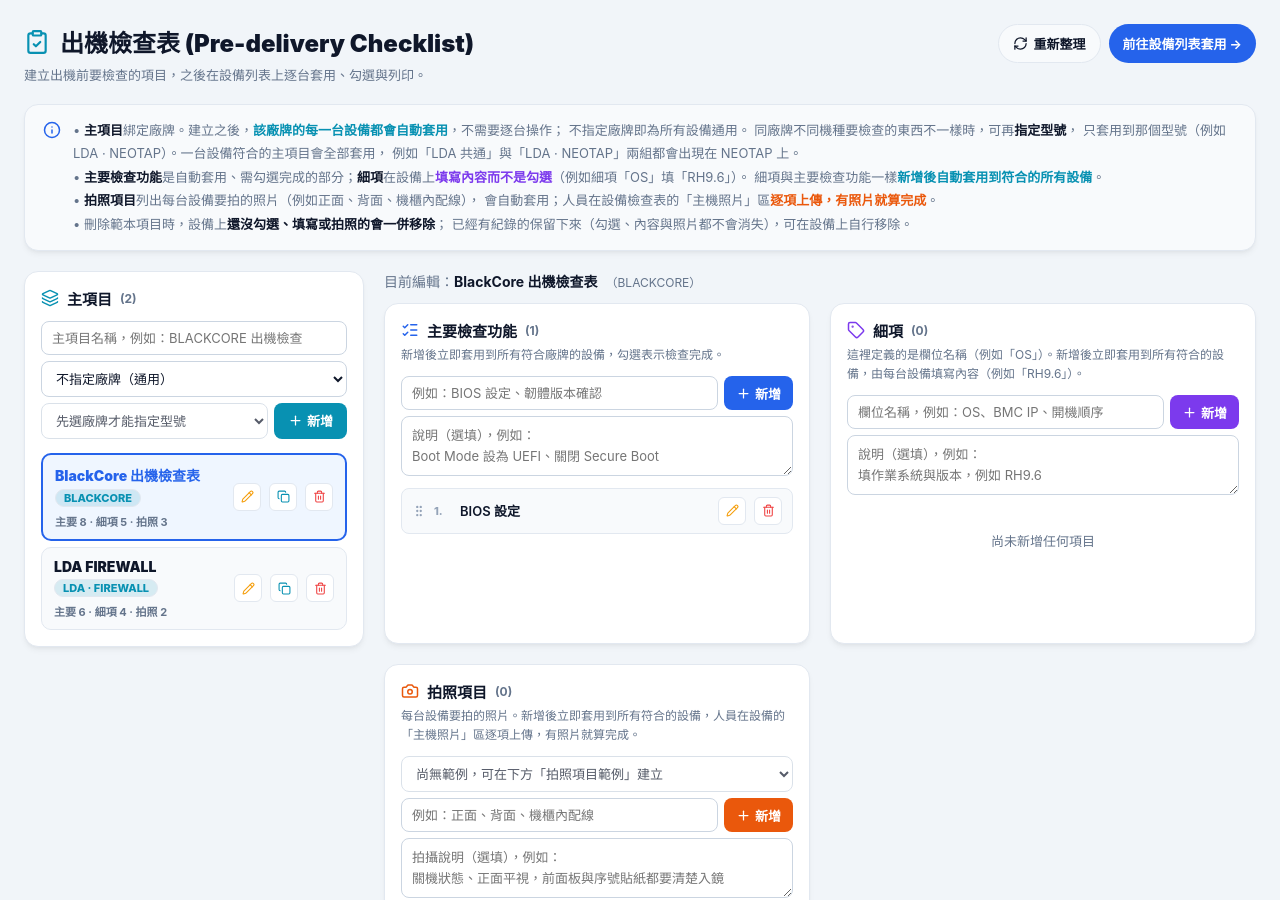
Test: 範本頁上複製 › 換成別的型號就不再提醒；複製後套用到設備並選到新的主項目
Expected: the text "BIOS 設定" is shown, [460,503,520,519]
Step 1. Click the button named "複製主項目 LDA FIREWALL" → (284, 588), box [270,574,298,602]
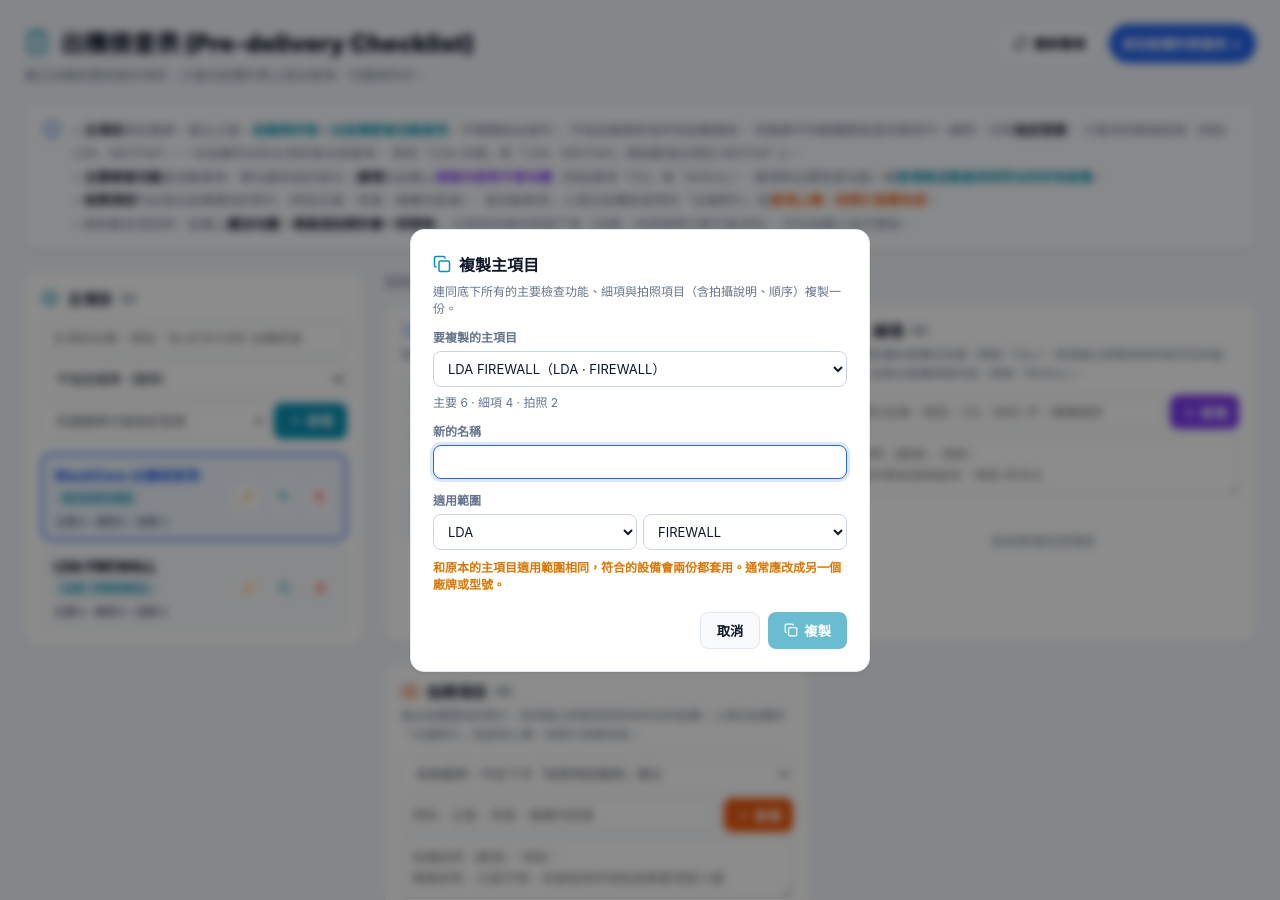
Step 2. Type "LDA NEOTAP" into the field labelled "新的名稱" → (640, 462), box [433,444,847,478]
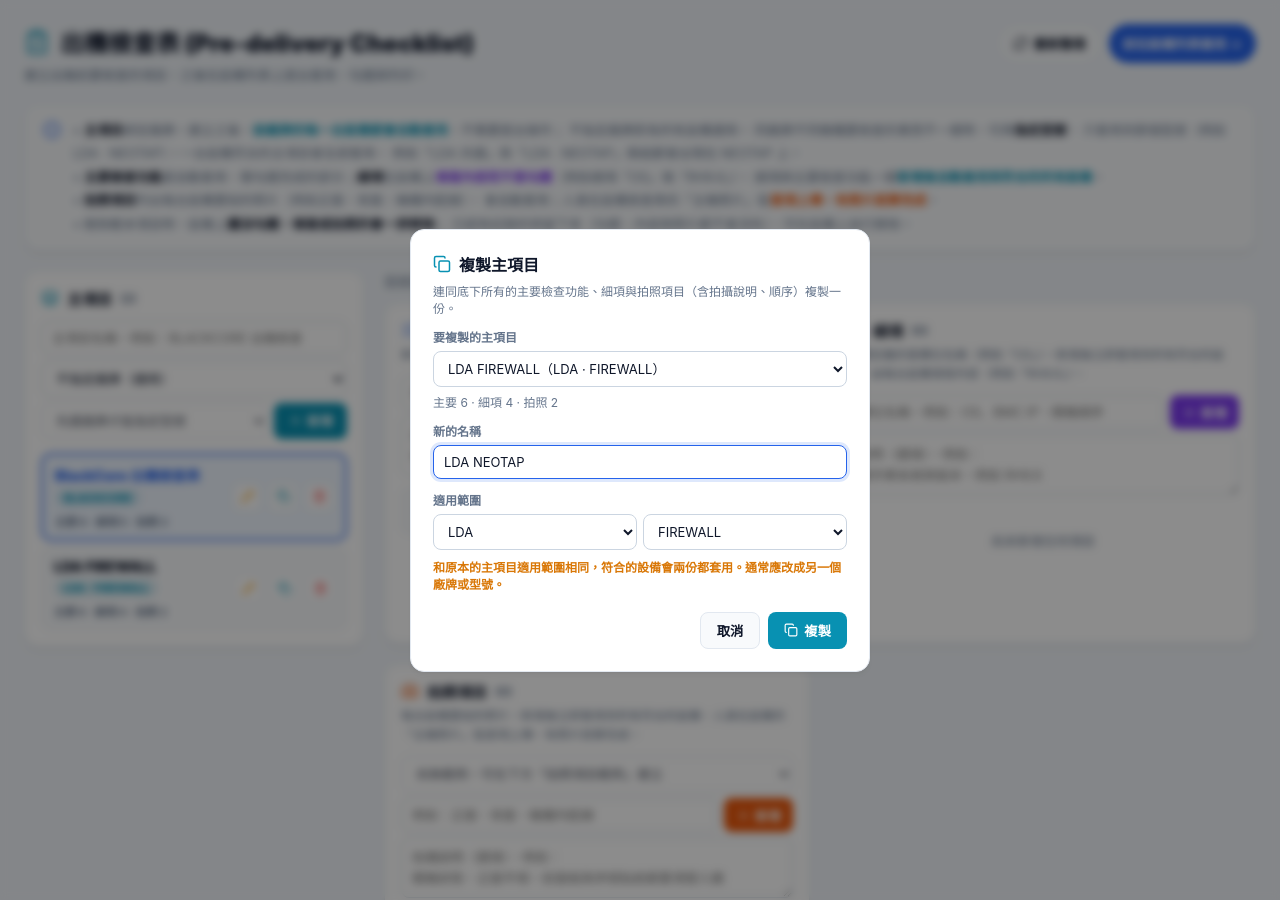
Step 3. Select "NEOTAP" in the dropdown named "複製後適用型號" → (745, 532), box [643,514,847,550]
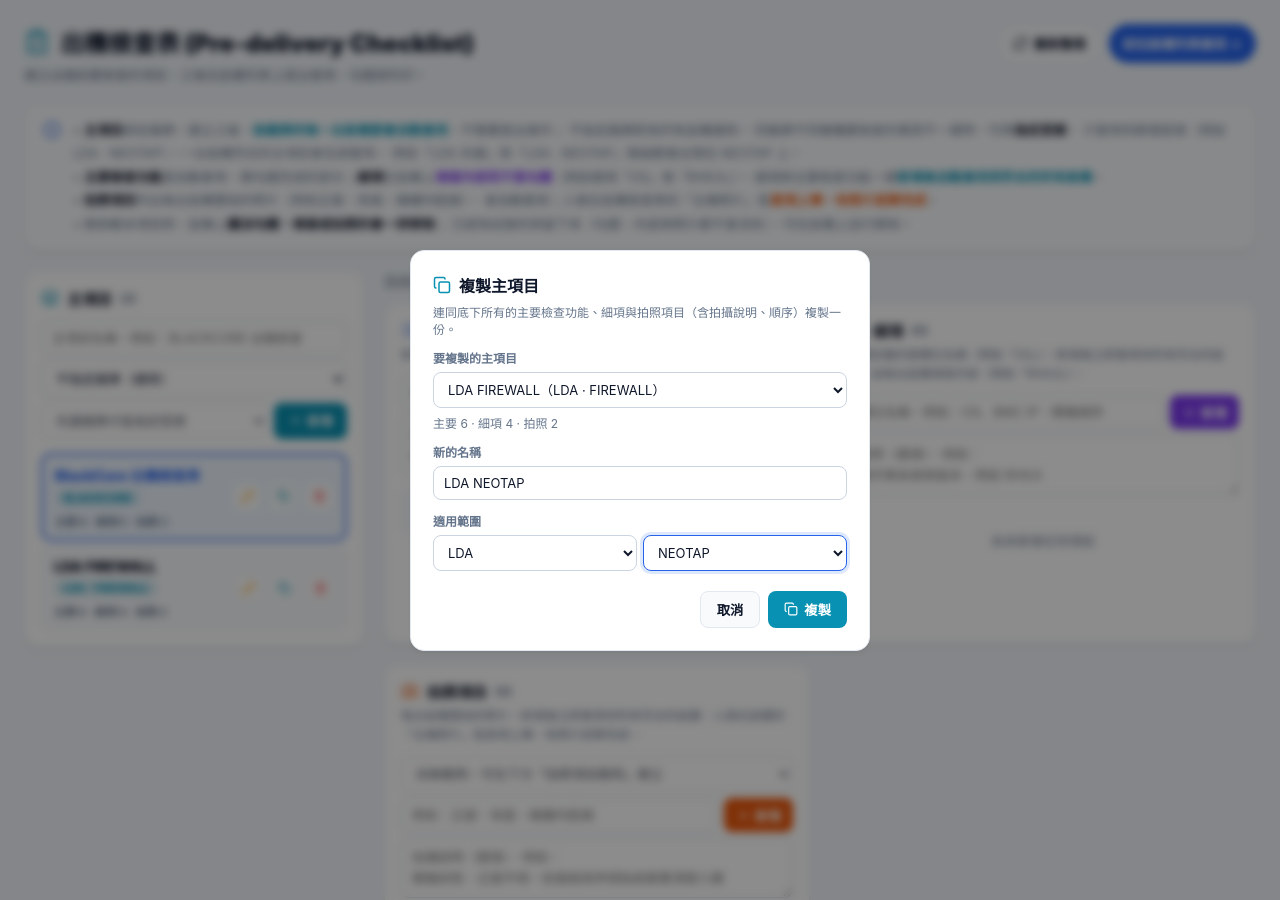
Expected: the text with test id "copy-group-same-scope" is gone
Step 4. Click the button "複製" → (808, 609), box [768,590,847,628]
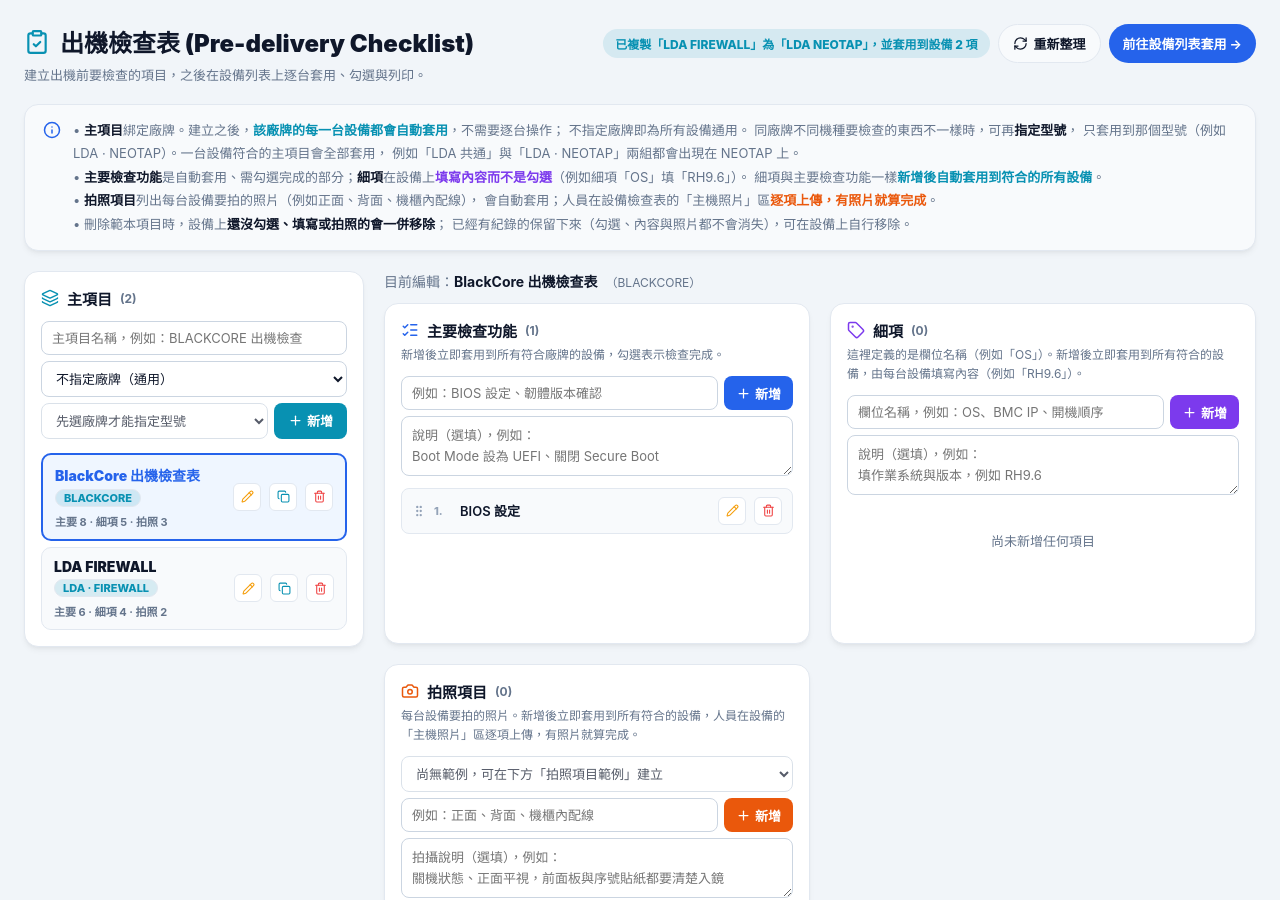
Expected: the text "已複製「LDA FIREWALL」為「LDA NEOTAP」，並套用到設備 2 項" is shown, [603,29,990,58]
Expected: the heading "複製主項目" is gone
